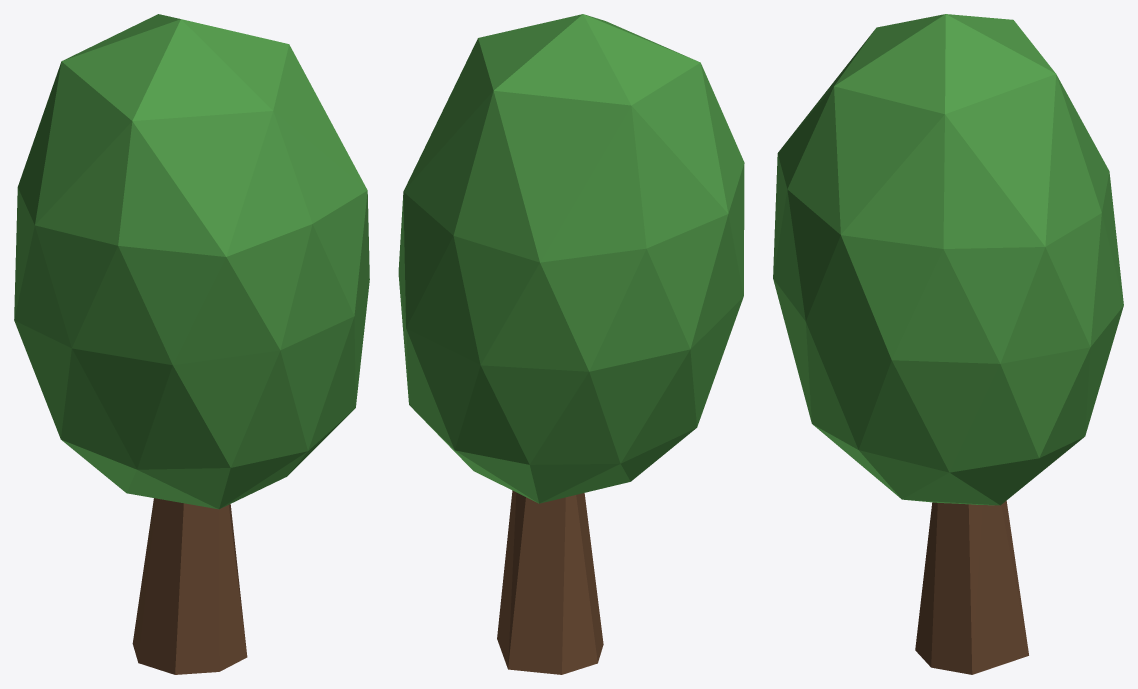
Rendered from Arbol1.fbx.
3 renders of one model, left to right at view 1: azimuth 30°, elevation 25°; view 2: azimuth 150°, elevation 25°; view 3: azimuth 270°, elevation 25°, orthographic. The views are drawn at different scales.
Parts seen in each view (by area): view 1: Arbol2; view 2: Arbol2; view 3: Arbol2.
Boxes of the visible parts, <box> form: Arbol2: <box>14,14,369,674</box>; Arbol2: <box>398,14,744,674</box>; Arbol2: <box>773,14,1123,674</box>.
Size of the model in its own units: 329 by 660 by 335.
